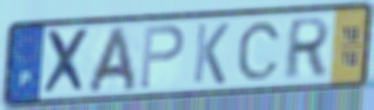A: (84, 24, 139, 96)
C: (235, 20, 283, 83)
K: (190, 21, 231, 86)
P: (138, 23, 187, 91)
R: (281, 15, 333, 82)
X: (40, 26, 91, 98)
